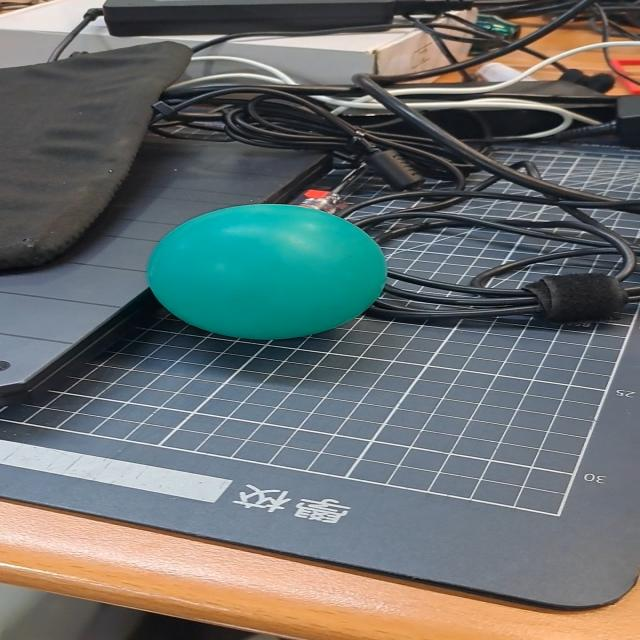ALGAE: (145, 206, 388, 342)
